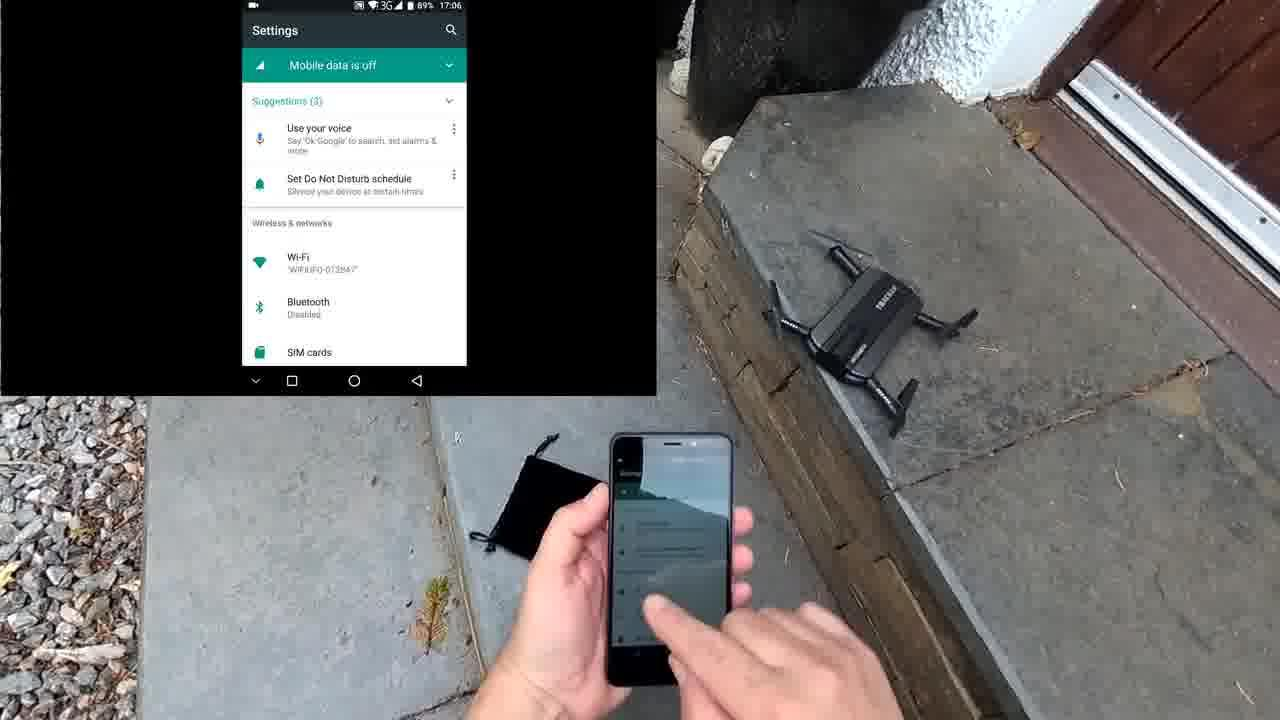drone: (744, 219, 1000, 458)
